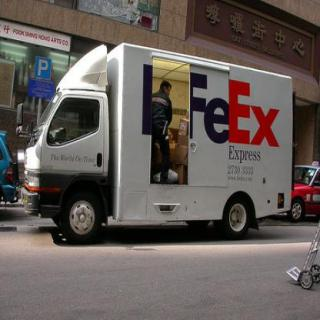Normal_vehicle: (19, 38, 297, 244)
